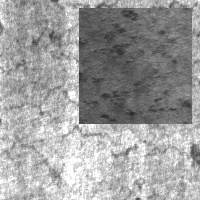crazing: (2, 118, 185, 191), (45, 1, 200, 67), (2, 52, 125, 120)
rolled-in_scale: (79, 8, 192, 124)
